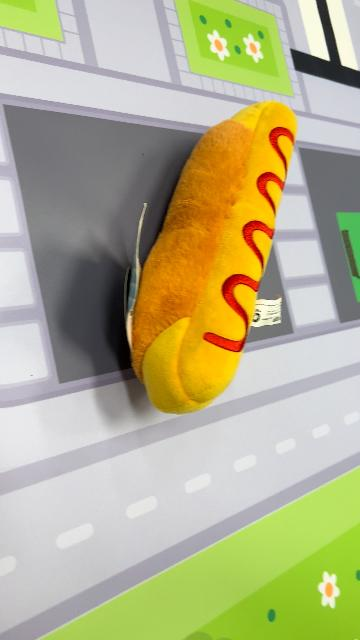hotdog: (126, 100, 300, 416)
